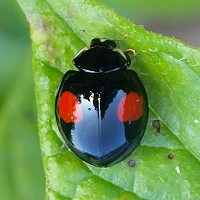Two_spots: (54, 35, 147, 166)
